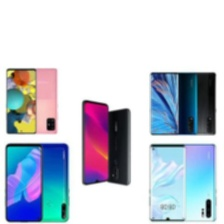phone: (25, 142, 71, 223), (2, 141, 45, 223), (146, 142, 188, 223), (180, 140, 219, 223), (80, 97, 112, 187), (4, 66, 39, 135), (27, 66, 60, 136), (105, 107, 133, 187), (148, 70, 181, 137), (169, 70, 200, 137), (186, 70, 217, 137)
